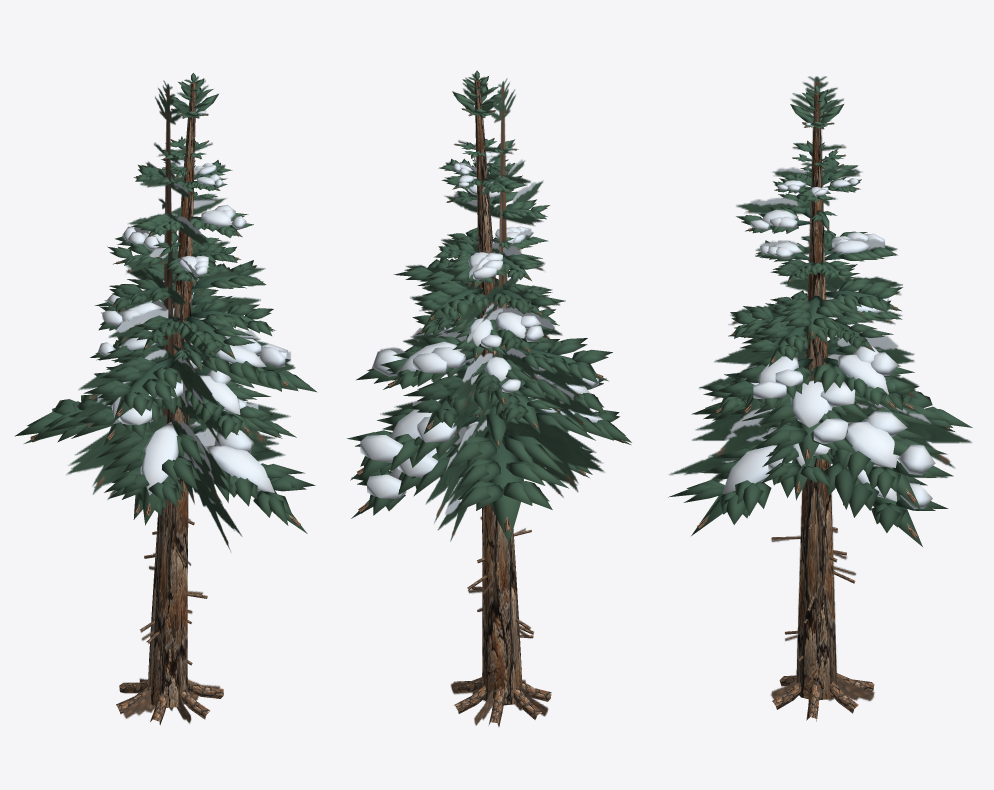
File: tree16.glb
3 views of the same model, side by side, from view 1: azimuth 30°, elevation 25°; view 2: azimuth 150°, elevation 25°; view 3: azimuth 270°, elevation 25° (orthographic).
Visible parts, largest first — view 1: Alpine16_1, Empty.004, Alpine16_0, Alpine16_2; view 2: Alpine16_1, Empty.004, Alpine16_0, Alpine16_2; view 3: Alpine16_1, Alpine16_2, Alpine16_0, Empty.004.
Boxes of the visible parts, x1,y1,x2,y2 form: Alpine16_1: (14,73,317,533); Empty.004: (66,76,295,723); Alpine16_0: (30,82,300,725); Alpine16_2: (98,111,287,495); Alpine16_1: (347,70,631,543); Empty.004: (380,74,604,725); Alpine16_0: (357,79,624,726); Alpine16_2: (360,105,602,498); Alpine16_1: (668,84,972,546); Alpine16_2: (722,122,935,508); Alpine16_0: (697,93,949,721); Empty.004: (669,76,971,701).
Size of the model in its own units: 6.58 by 16.92 by 7.58.
4 materials, 2 textured.
